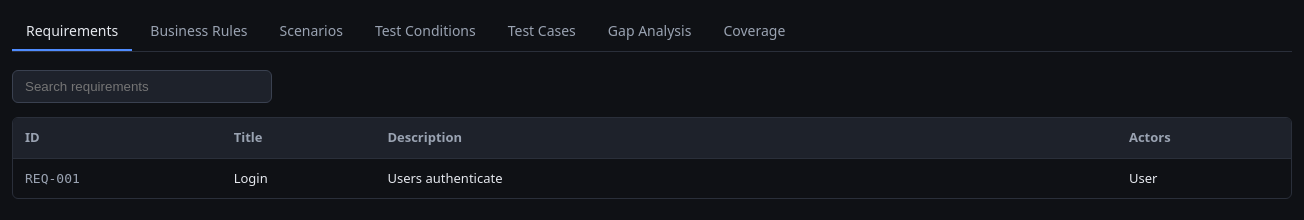
Results › switches to the test cases view on tab click
Click the tab "Test Cases". click: (542, 32)
box: [494,12,590,51]
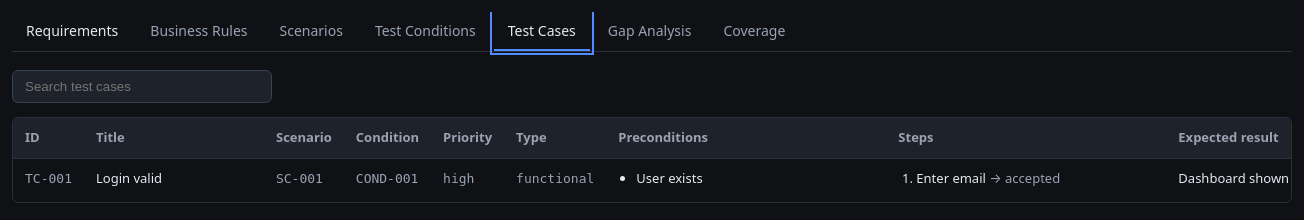
Result: the text "Login valid" is shown at [84,158,264,202]
